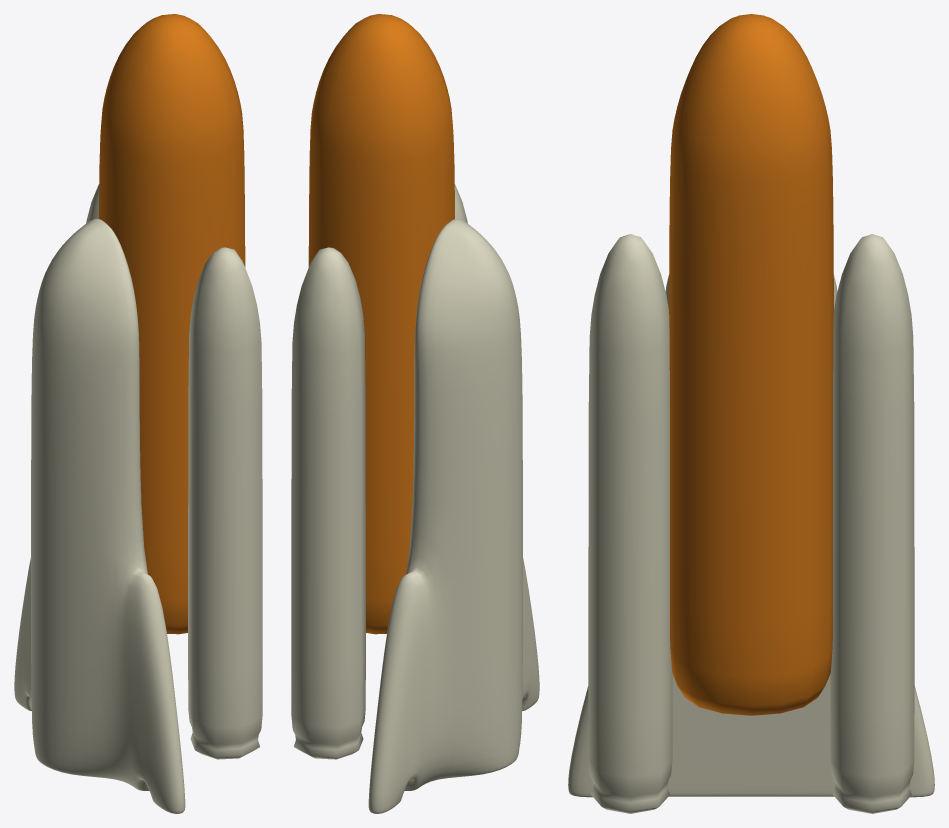
Rendered from shuttle.fbx.
3 renders of one model, left to right at view 1: azimuth 30°, elevation 25°; view 2: azimuth 150°, elevation 25°; view 3: azimuth 270°, elevation 25°, orthographic. The views are drawn at different scales.
Parts seen in each view (by area): view 1: Cube.002; view 2: Cube.002; view 3: Cube.002.
Part boxes in pixels (bbox=[...]): Cube.002: bbox=[14, 14, 262, 813]; Cube.002: bbox=[291, 14, 539, 813]; Cube.002: bbox=[568, 14, 934, 813].
Bounding box in the file's own units: 285 × 1002 × 408.
